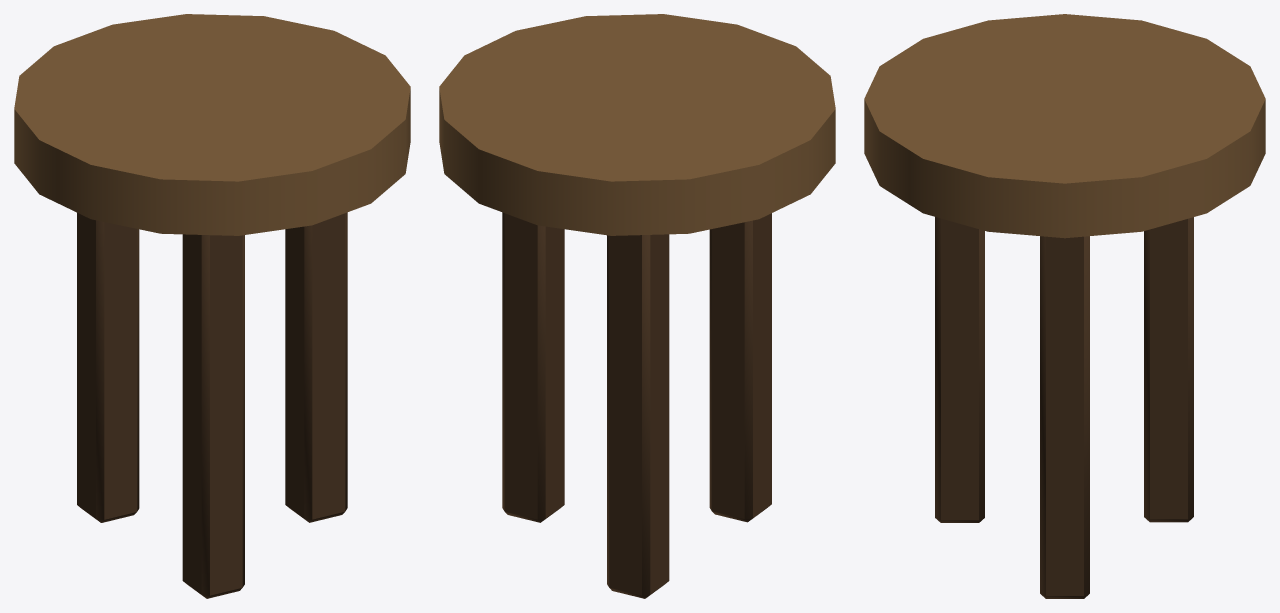
Rendered from stool.glb.
3 views of the same model, side by side, from view 1: azimuth 30°, elevation 25°; view 2: azimuth 150°, elevation 25°; view 3: azimuth 270°, elevation 25° (orthographic).
Parts seen in each view (by area): view 1: building; view 2: building; view 3: building.
Boxes of the visible parts, box(x1,y1,x2,y2) form: building: box(14, 14, 410, 598); building: box(439, 14, 835, 598); building: box(864, 14, 1265, 598).
Size of the model in its own units: 0.4 by 0.485 by 0.4.
